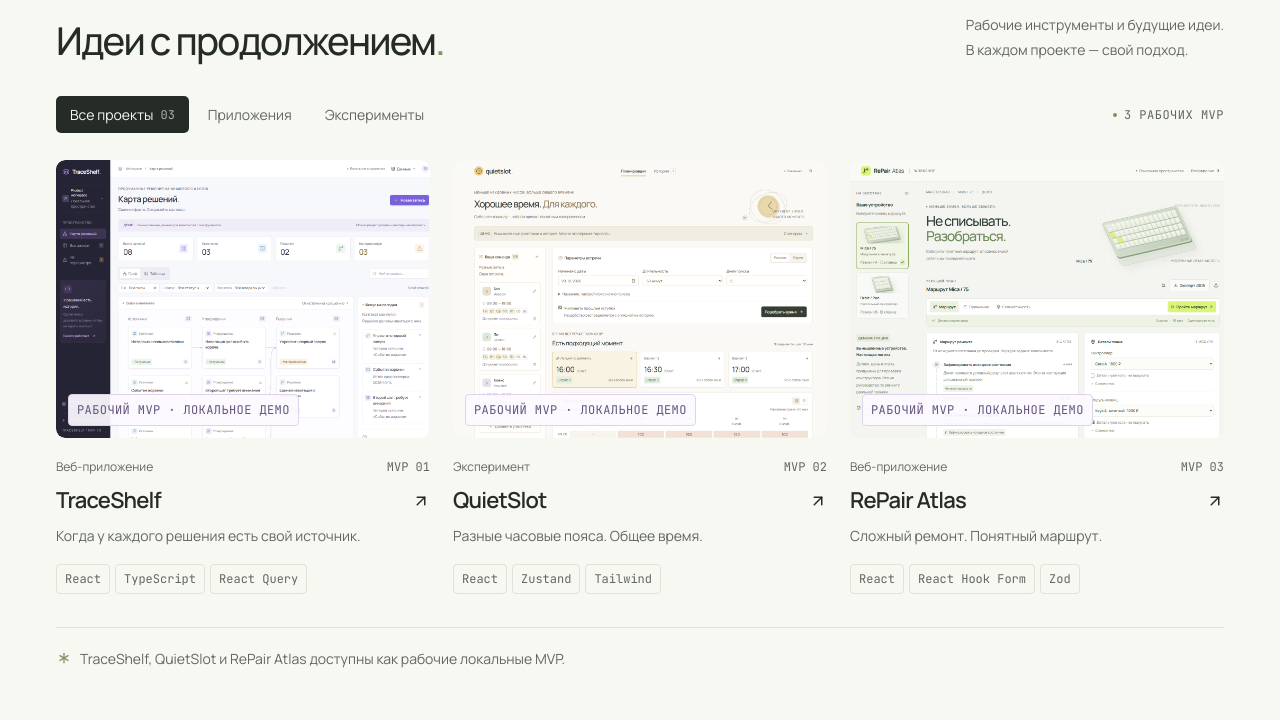
Scenario: Портфолио › открывает страницу проекта и возвращается к проектам
This screenshot has width=1280, height=720.
(page scrolled)
Click the link with aria-label "TraceShelf — открыть проект". click: (243, 377)
box: [56,160,430,594]
(page scrolled)
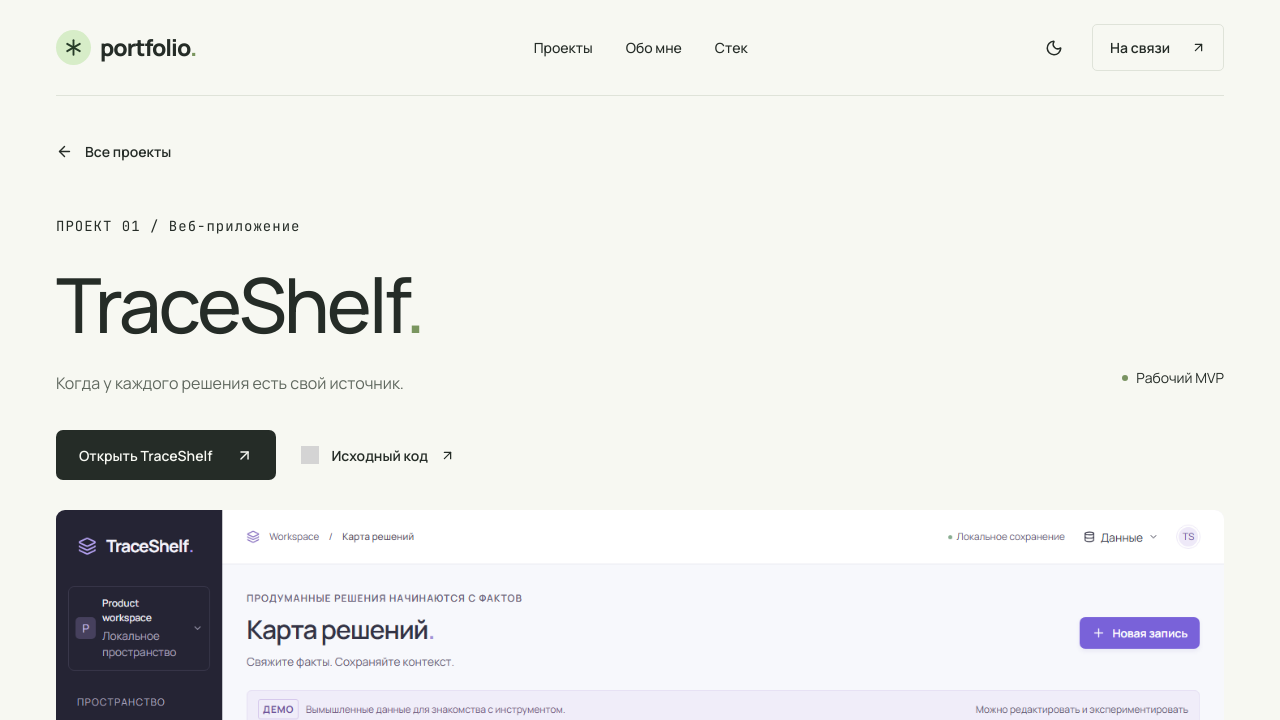
Expected: the text "Рабочий MVP" is shown, [1122,367,1224,395]
Now the heading "TraceShelf." is shown, box [56,247,423,361]
Click the link "Все проекты". click: (114, 152)
box: [56,141,171,162]
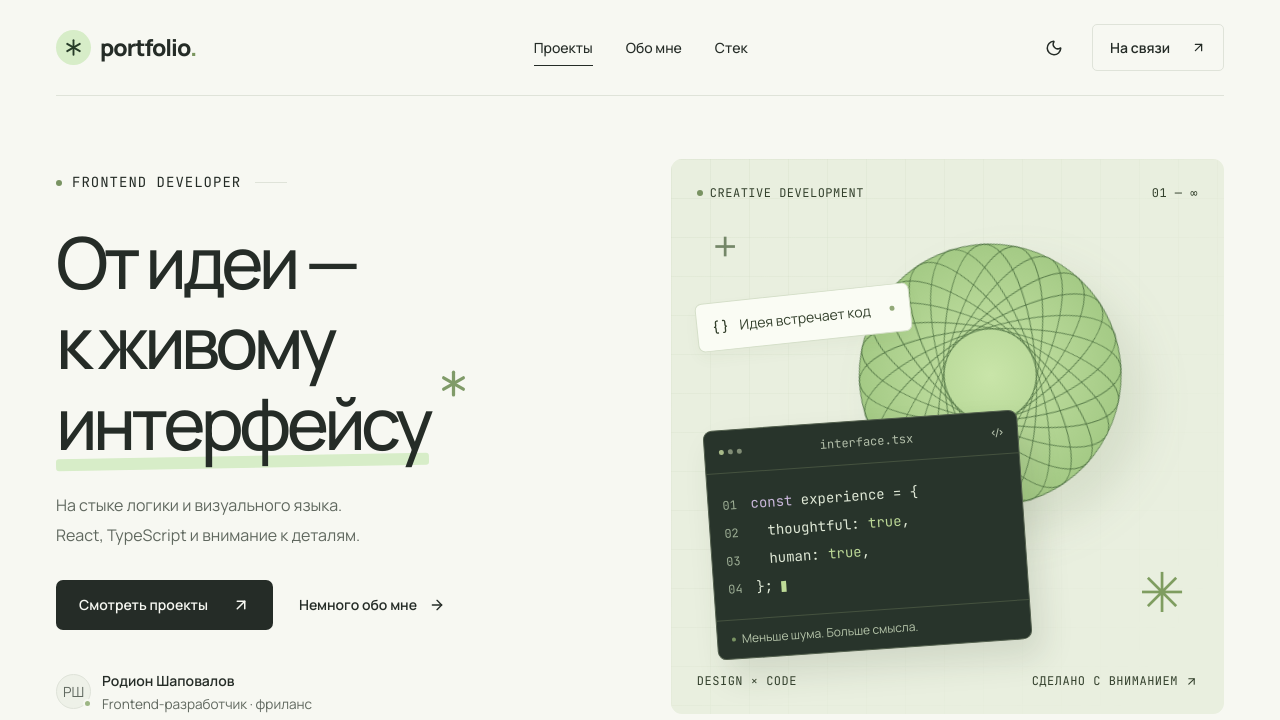
Now the heading "От идеи" is shown, box [56,213,473,472]
